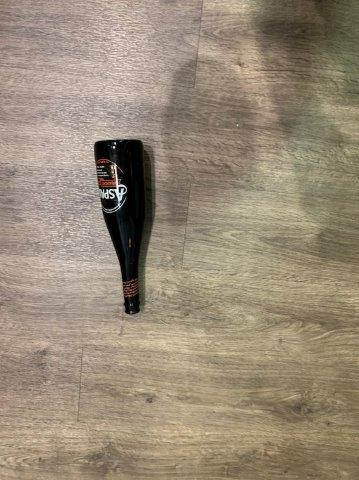botolkaca: (94, 138, 145, 313)
